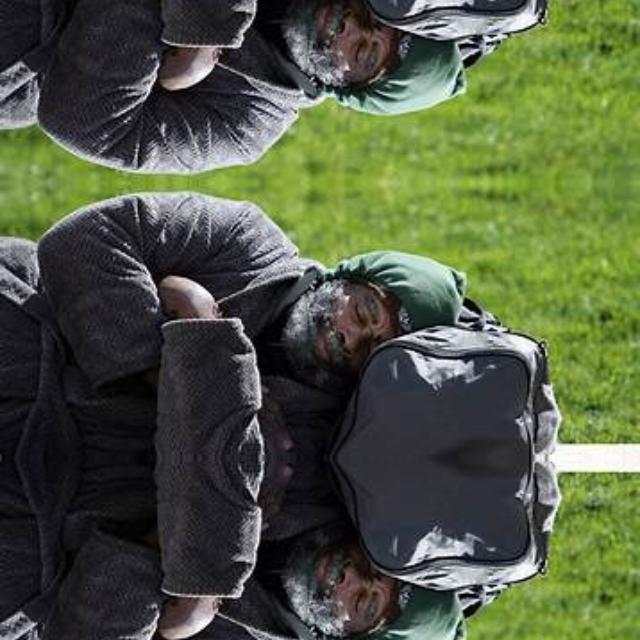person: (202, 220, 476, 396), (202, 0, 475, 144), (202, 517, 475, 640)
